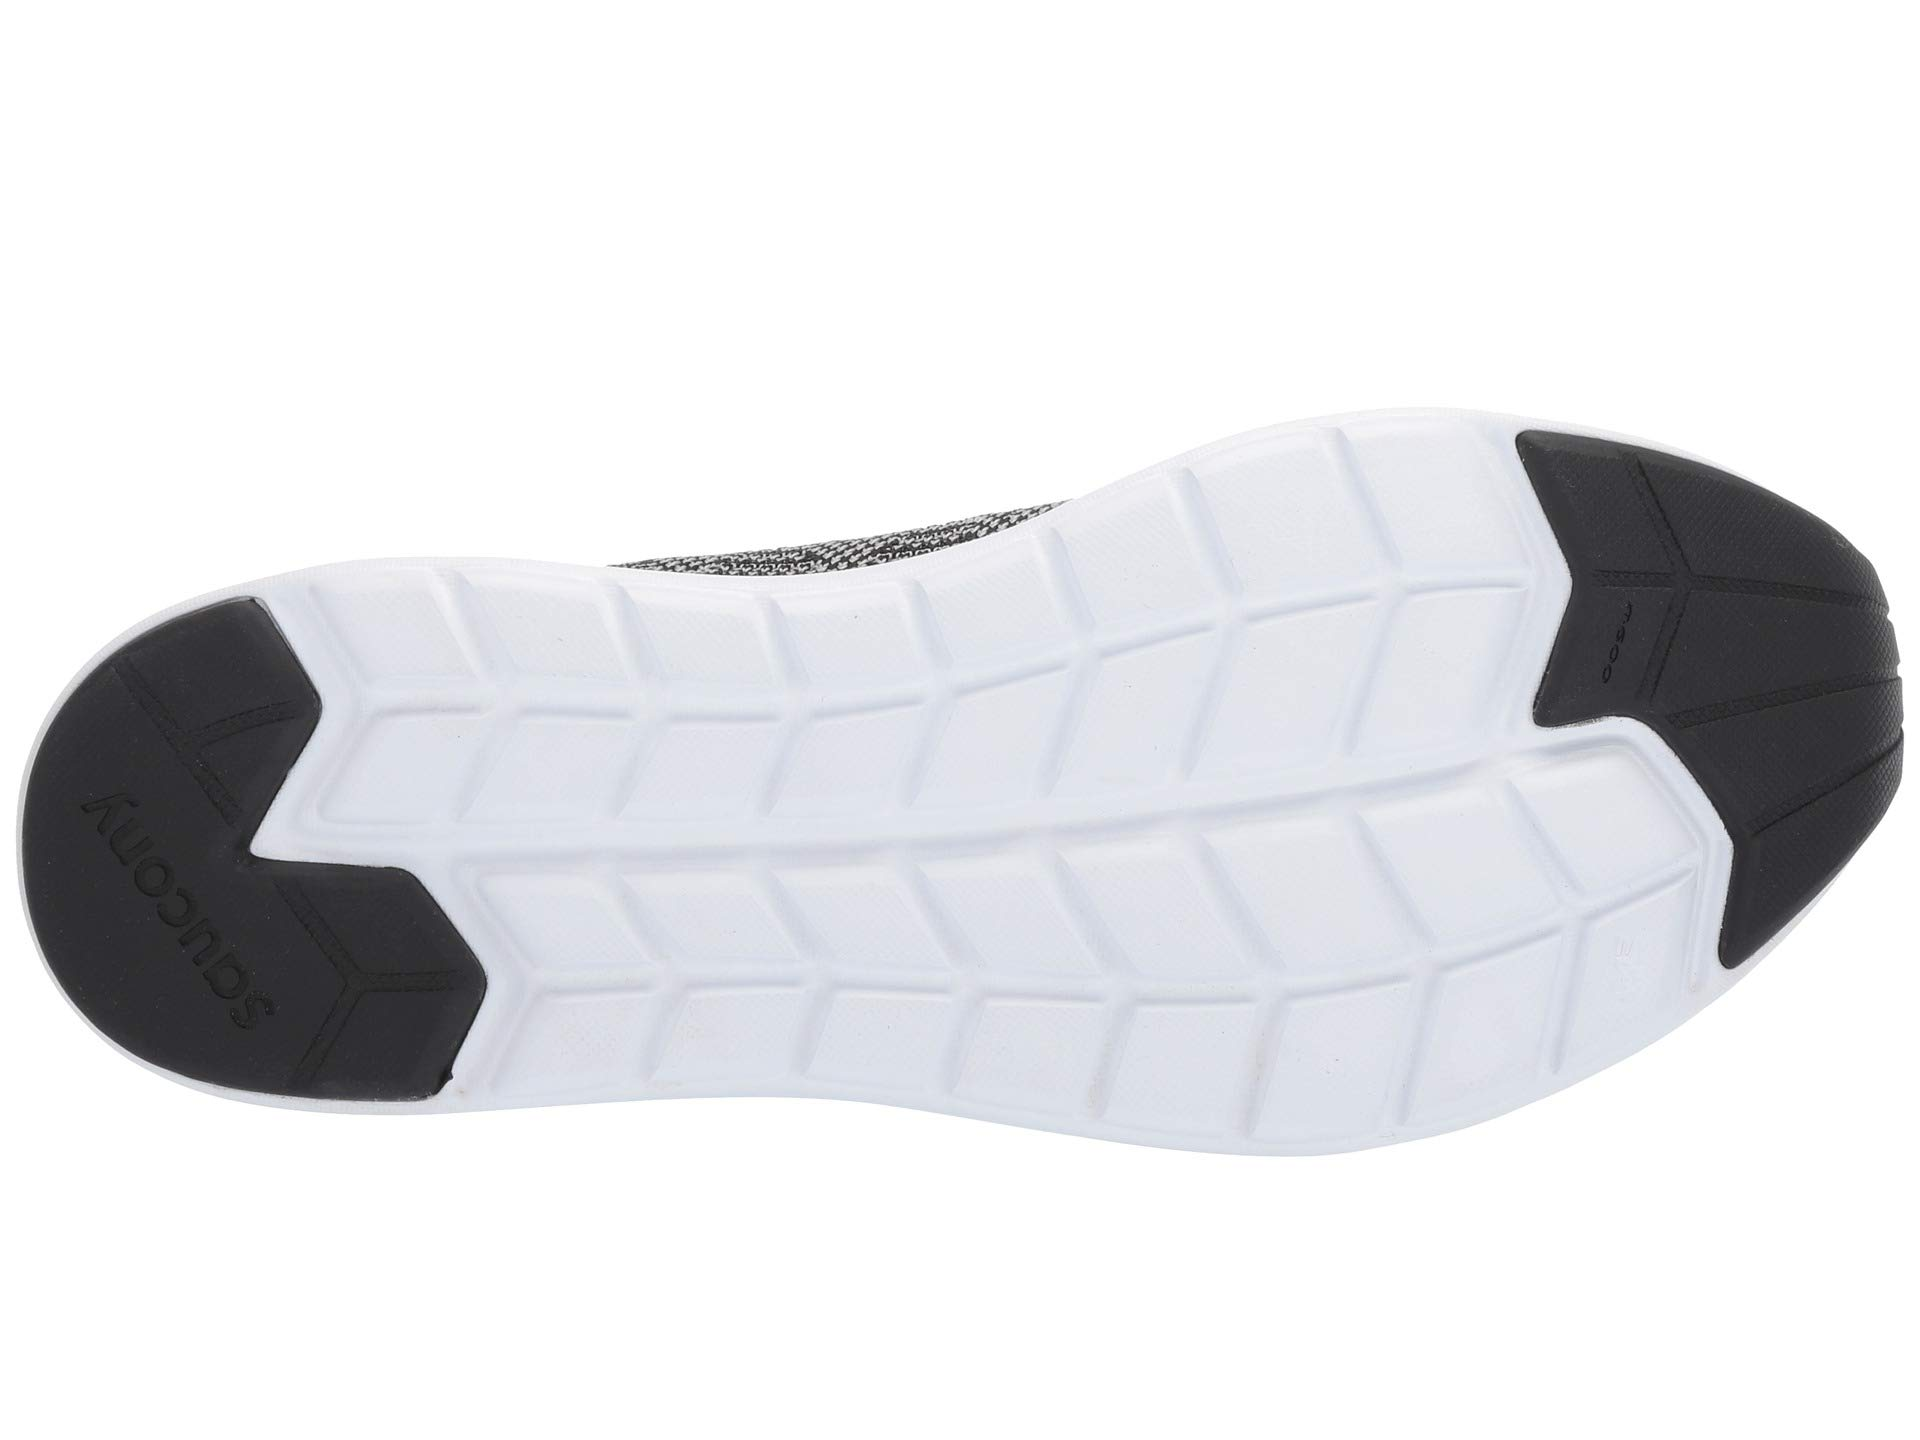quad: (986, 610, 1476, 1095), (475, 638, 943, 1082)
